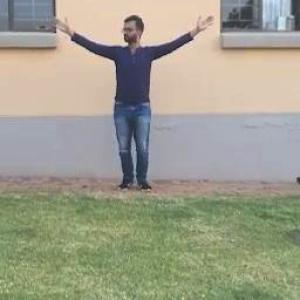takeoff: (46, 9, 209, 184)
